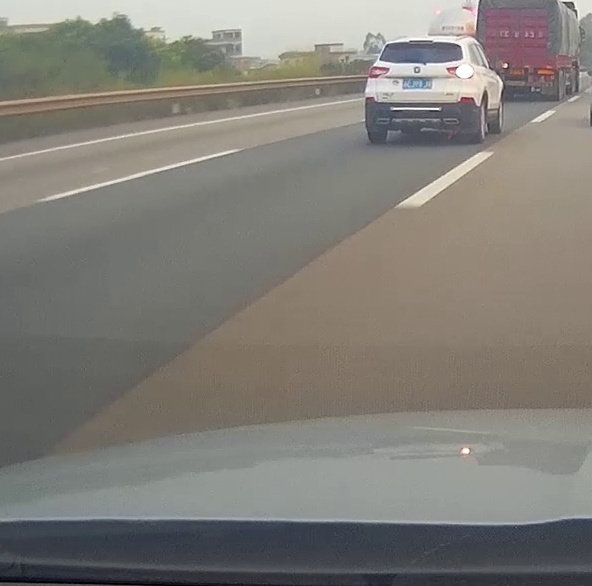L_light: (368, 66, 390, 79)
R_light: (446, 64, 474, 79)
T_light: (409, 40, 433, 43)
day-right: (364, 36, 480, 144)
